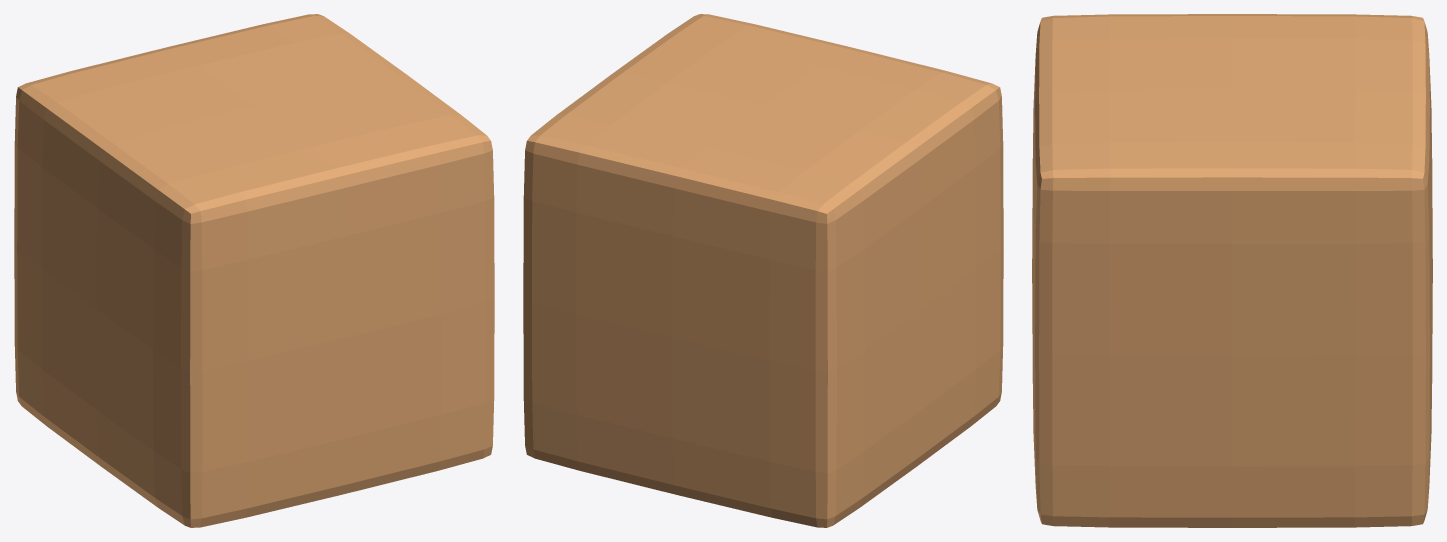
File: areia base.fbx
3 renders of one model, left to right at view 1: azimuth 30°, elevation 25°; view 2: azimuth 150°, elevation 25°; view 3: azimuth 270°, elevation 25°, orthographic. The views are drawn at different scales.
Parts seen in each view (by area): view 1: Cube.001; view 2: Cube.001; view 3: Cube.001.
Boxes of the visible parts, x1,y1,x2,y2 form: Cube.001: (14,14,494,527); Cube.001: (523,14,1003,527); Cube.001: (1032,14,1432,527).
Size of the model in its own units: 2.04 by 2.04 by 2.04.
